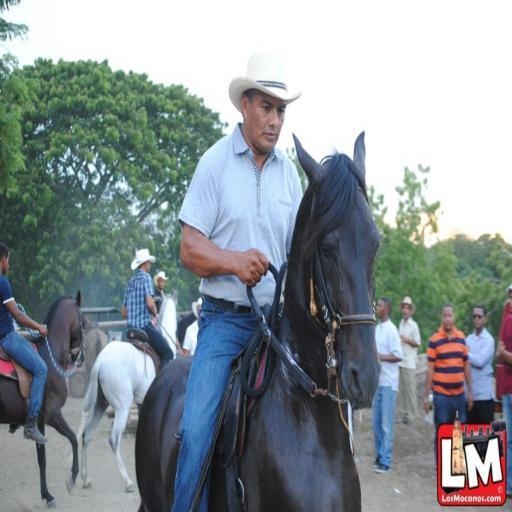horse: (134, 127, 383, 511), (74, 288, 180, 493), (0, 284, 85, 510), (82, 324, 110, 378), (175, 308, 196, 350)
